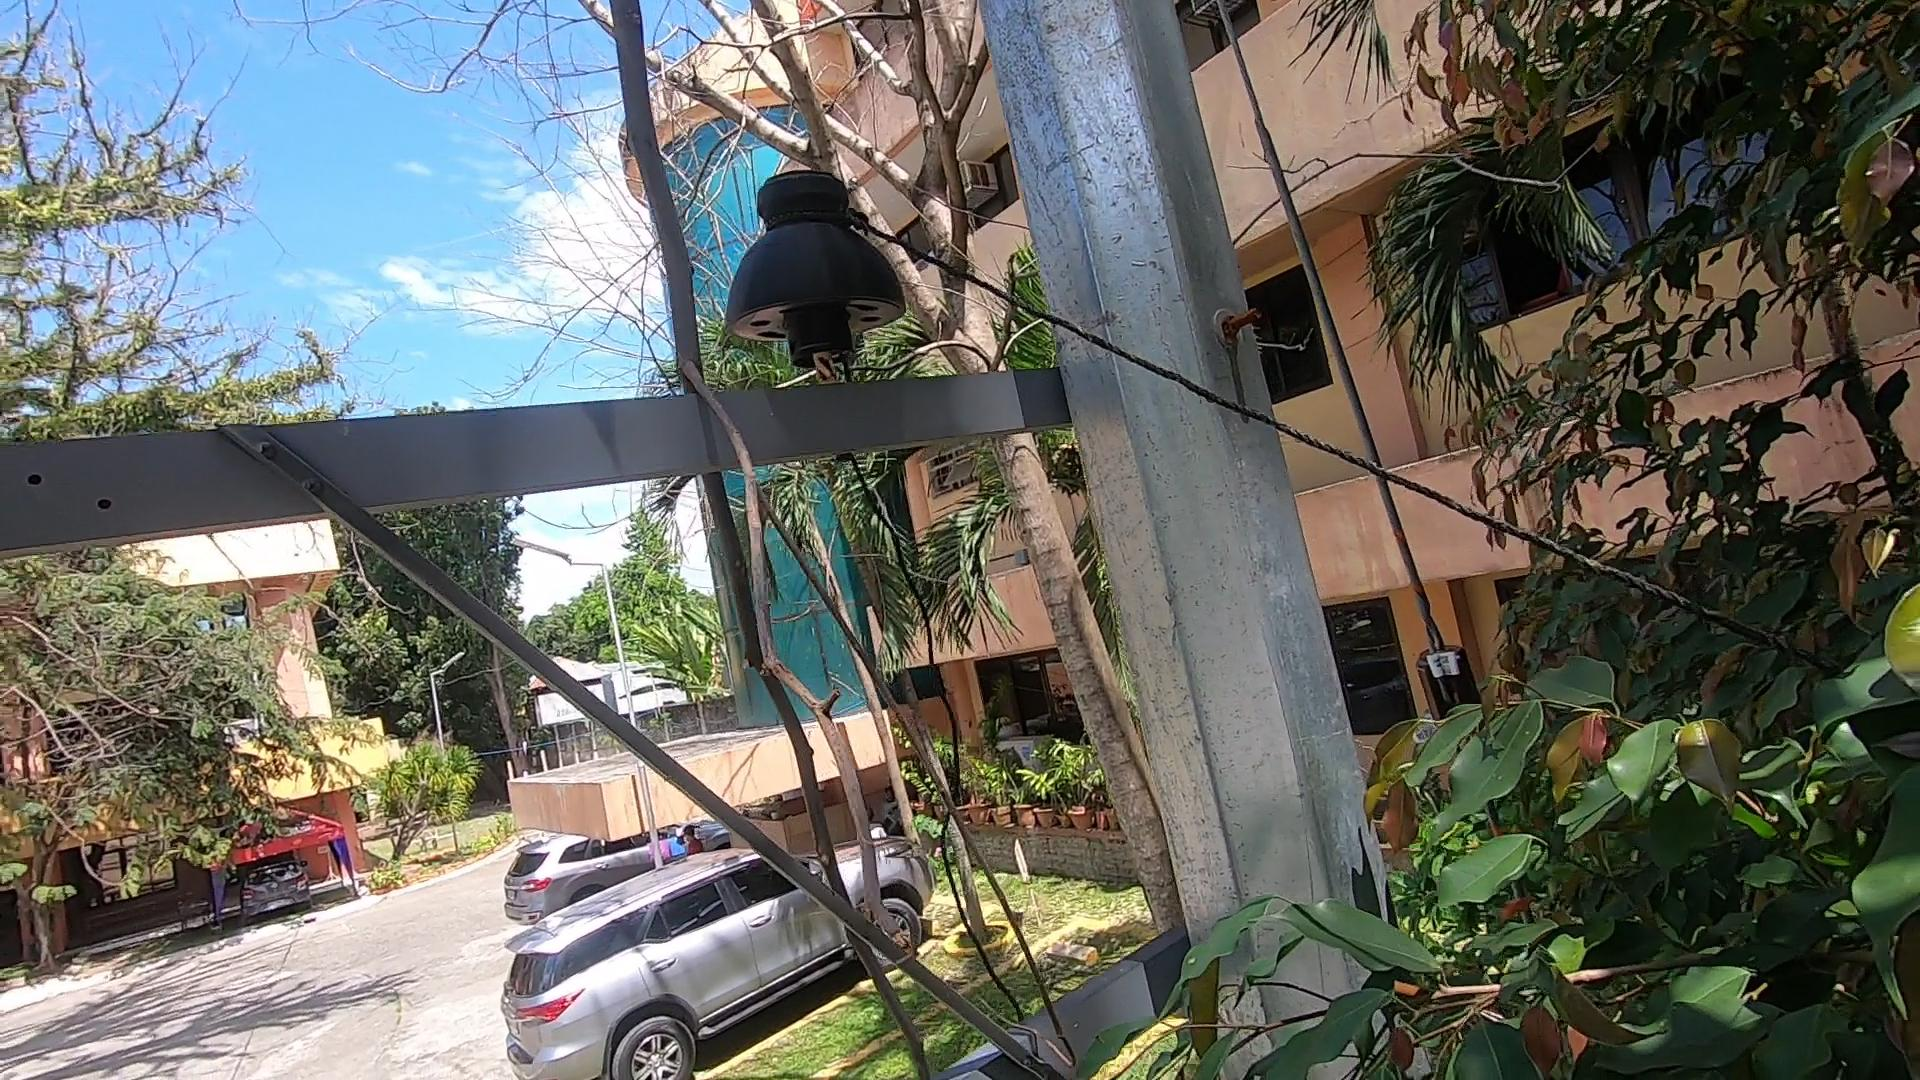tree branch: (576, 5, 1081, 1075)
